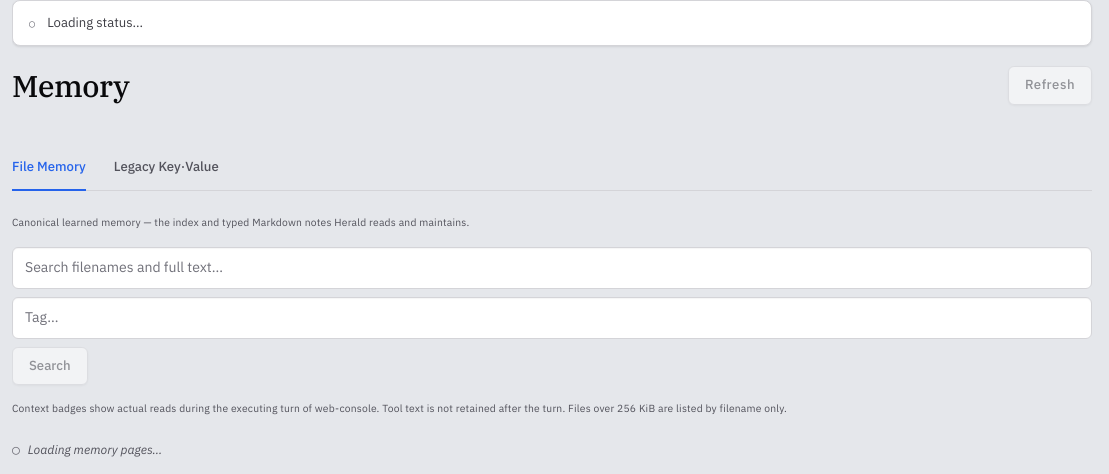
Test: MemoryViewer.vue › shows loading state on kv tab initially
This screenshot has width=1109, height=474.
Click the button with class "tab-btn" showing "Legacy Key·Value" at (166, 168), box [114,145,219,191]
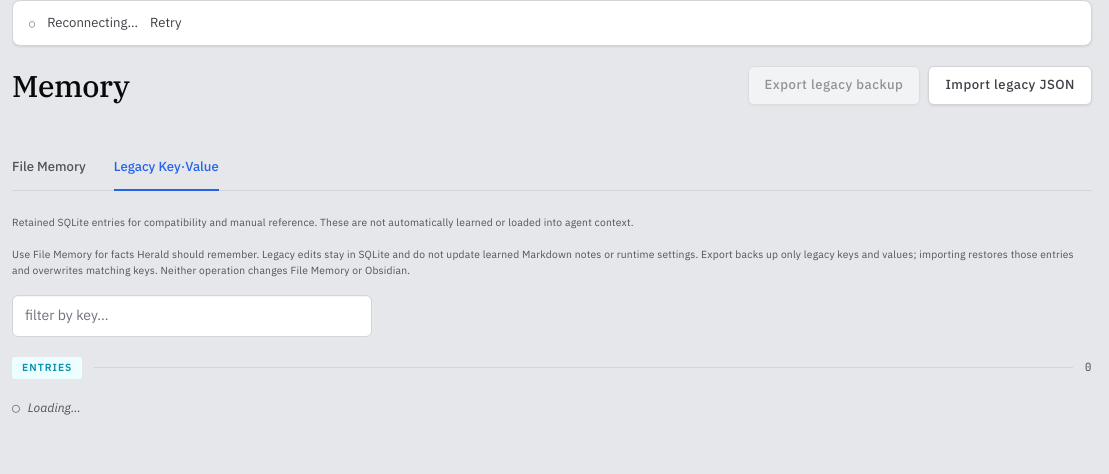
Check: the text "Loading…" is shown, box [28,400,81,415]
